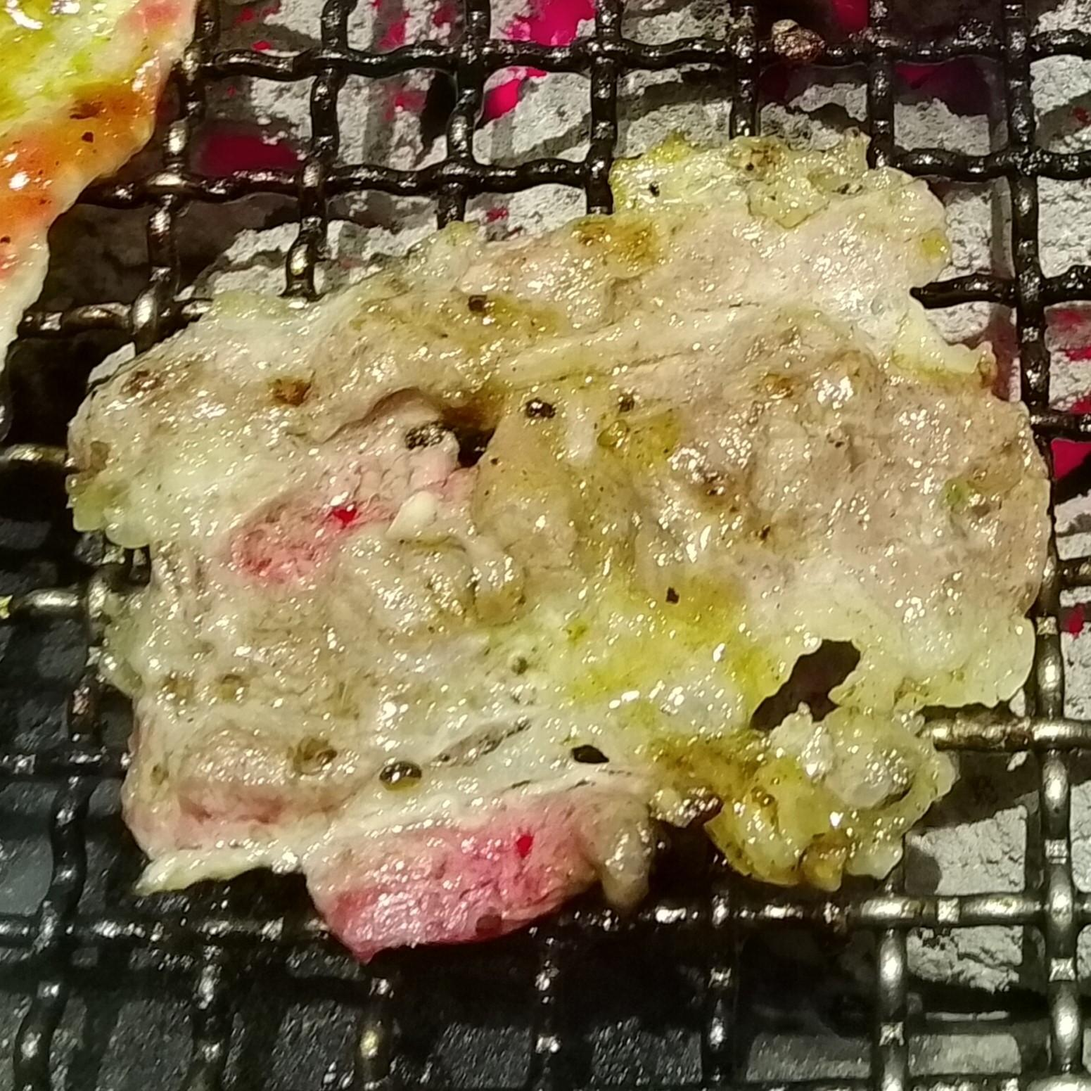Undercooked: (295, 762, 693, 965), (0, 0, 203, 378)
Well-Cooked: (68, 126, 1056, 898)
